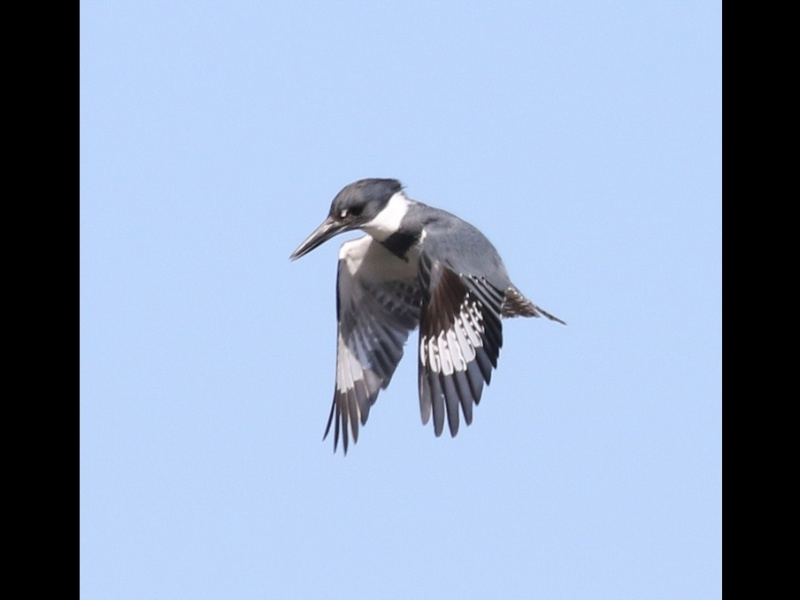kingfisher: (288, 175, 570, 458)
